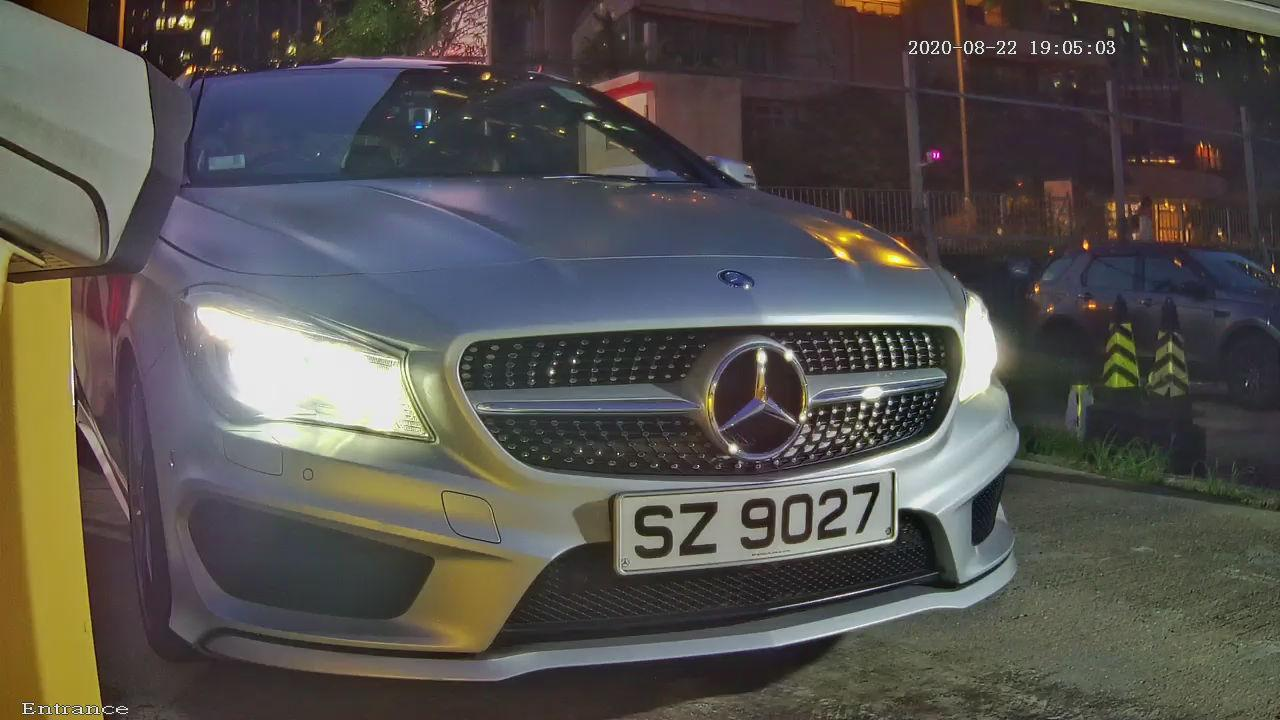License Plate: (606, 463, 915, 582)
